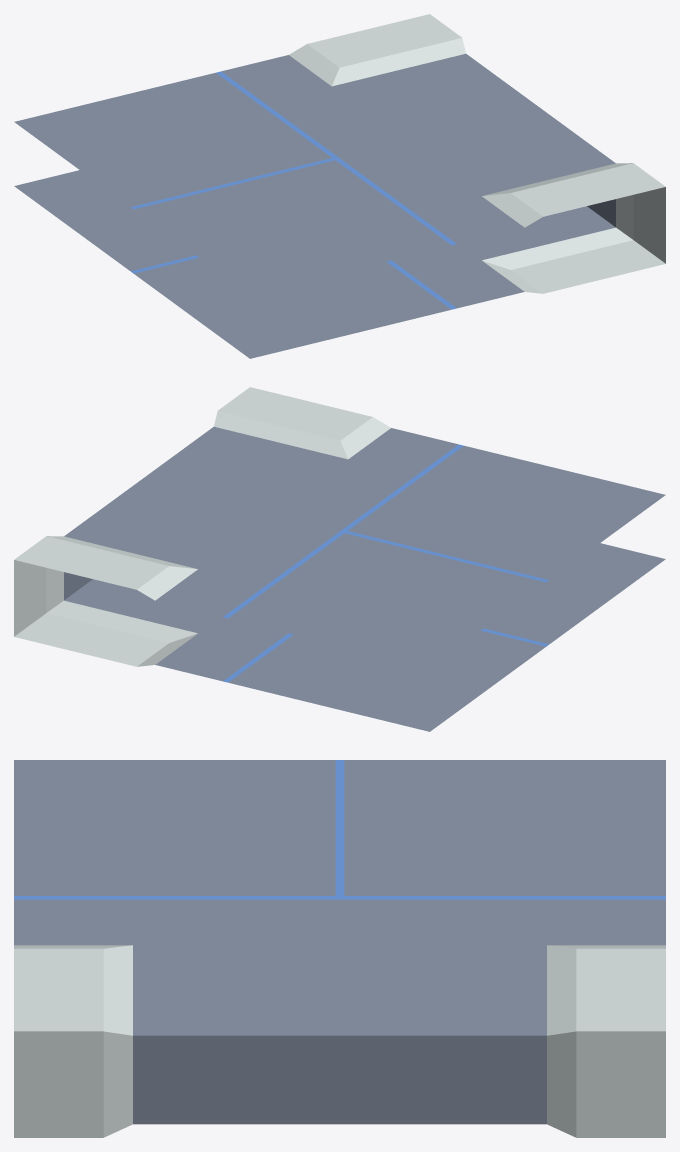
Rendered from PlatformEdge.fbx.
The picture shows the model from 3 angles, top to bottom: view 1: azimuth 30°, elevation 25°; view 2: azimuth 150°, elevation 25°; view 3: azimuth 270°, elevation 25°; orthographic projection. The views are drawn at different scales.
Parts seen in each view (by area): view 1: PlataformEdge; view 2: PlataformEdge; view 3: PlataformEdge.
Boxes of the visible parts, bbox=[...] form: PlataformEdge: bbox=[14, 14, 665, 358]; PlataformEdge: bbox=[14, 387, 665, 731]; PlataformEdge: bbox=[14, 760, 665, 1137].
Size of the model in its own units: 120 by 21.3 by 118.
Materials: 1 (1 with a texture image).
